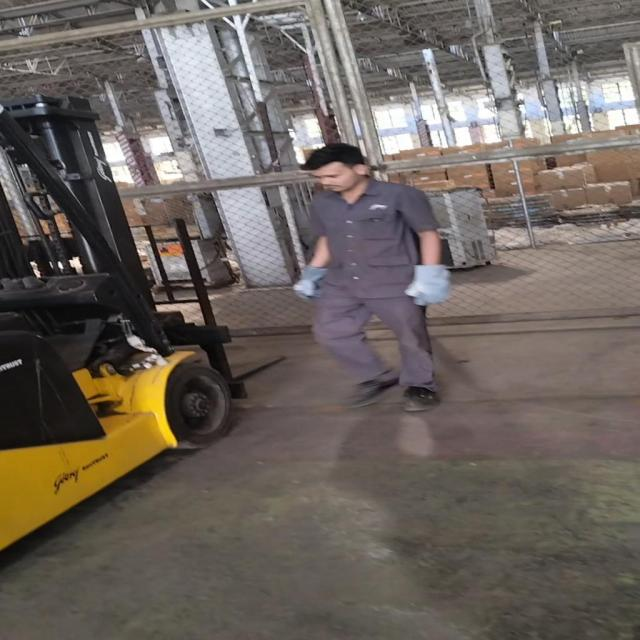Gloves-Detection: (408, 261, 446, 314), (299, 267, 322, 300)
